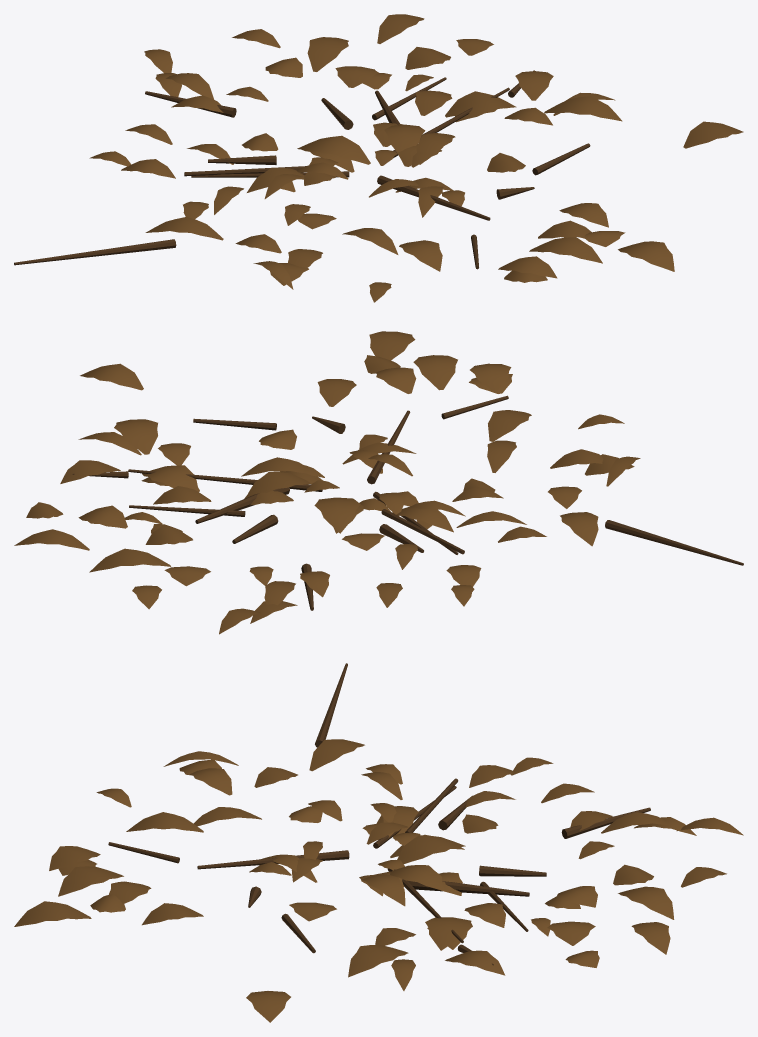
File: detail_forest_litter.glb
3 views of the same model, one above another, from view 1: azimuth 30°, elevation 25°; view 2: azimuth 150°, elevation 25°; view 3: azimuth 270°, elevation 25° (orthographic). The views are drawn at different scales.
Parts seen in each view (by area): view 1: CurledLeafLitter, Cone.001, Cone.008, Cone.002, Cone.009; view 2: CurledLeafLitter, Cone.001, Cone.006, Cone, Cone.002, Cone.003, Cone.012; view 3: CurledLeafLitter, Cone, Cone.008.
Part boxes in pixels (<box>): CurledLeafLitter: <box>89,14,743,302</box>; Cone.001: <box>14,239,176,265</box>; Cone.008: <box>377,175,490,220</box>; Cone.002: <box>184,166,306,176</box>; Cone.009: <box>208,155,276,164</box>; CurledLeafLitter: <box>14,331,640,634</box>; Cone.001: <box>605,520,743,565</box>; Cone.006: <box>128,469,322,491</box>; Cone: <box>195,487,289,523</box>; Cone.002: <box>381,509,464,554</box>; Cone.003: <box>193,418,276,430</box>; Cone.012: <box>129,505,245,516</box>; CurledLeafLitter: <box>14,739,743,1022</box>; Cone: <box>407,880,529,896</box>; Cone.008: <box>197,850,349,869</box>.
Bounding box in the file's own units: 2.14 × 0.0575 × 1.9.
